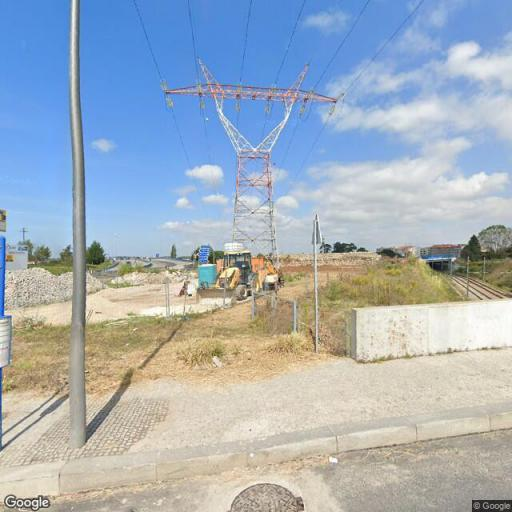wt_5: (166, 55, 342, 272)
